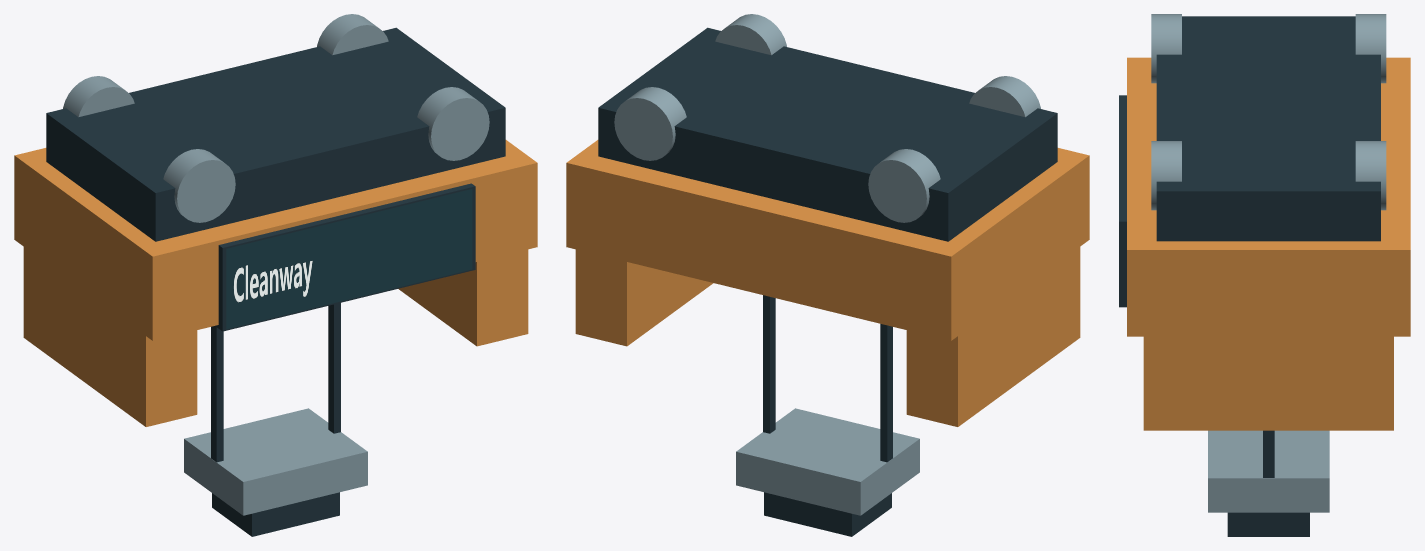
Rendered from daifuku-cleanway-oht.glb.
3 views of the same model, side by side, from view 1: azimuth 30°, elevation 25°; view 2: azimuth 150°, elevation 25°; view 3: azimuth 270°, elevation 25° (orthographic). The views are drawn at different scales.
Visible parts, largest first — view 1: daifuku-cleanway-oht, vehicle, gripper, hoist_belt (×2); view 2: daifuku-cleanway-oht, vehicle, gripper, hoist_belt (×2); view 3: daifuku-cleanway-oht, vehicle, gripper, hoist_belt.
Part boxes in pixels (x1=…): daifuku-cleanway-oht: x1=14, y1=14, x2=537, y2=536; vehicle: x1=46, y1=27, x2=505, y2=241; gripper: x1=184, y1=408, x2=367, y2=515; hoist_belt (×2): x1=211, y1=303, x2=340, y2=462; daifuku-cleanway-oht: x1=566, y1=14, x2=1089, y2=536; vehicle: x1=598, y1=27, x2=1057, y2=241; gripper: x1=736, y1=408, x2=919, y2=515; hoist_belt (×2): x1=763, y1=295, x2=892, y2=462; daifuku-cleanway-oht: x1=1119, y1=14, x2=1410, y2=536; vehicle: x1=1156, y1=16, x2=1380, y2=241; gripper: x1=1208, y1=430, x2=1329, y2=512; hoist_belt: x1=1263, y1=430, x2=1274, y2=477.
Size of the model in its own units: 1.05 by 1.11 by 0.6734.
4 materials, 1 textured.
